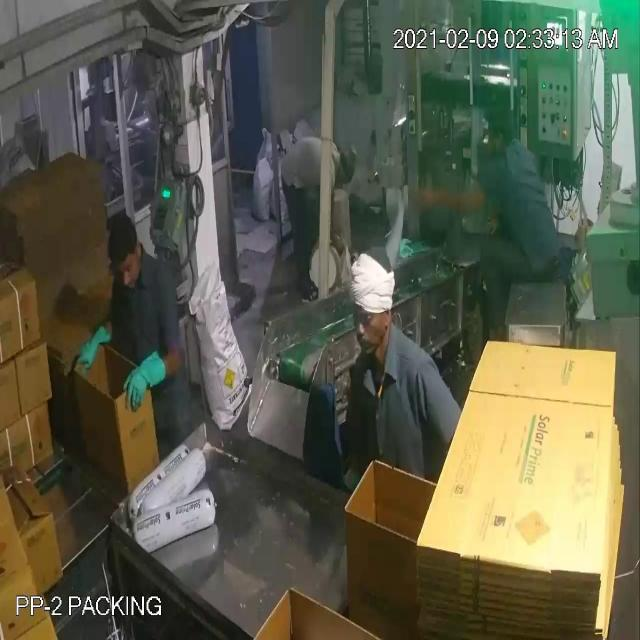Gloves: (46, 54, 444, 380)
